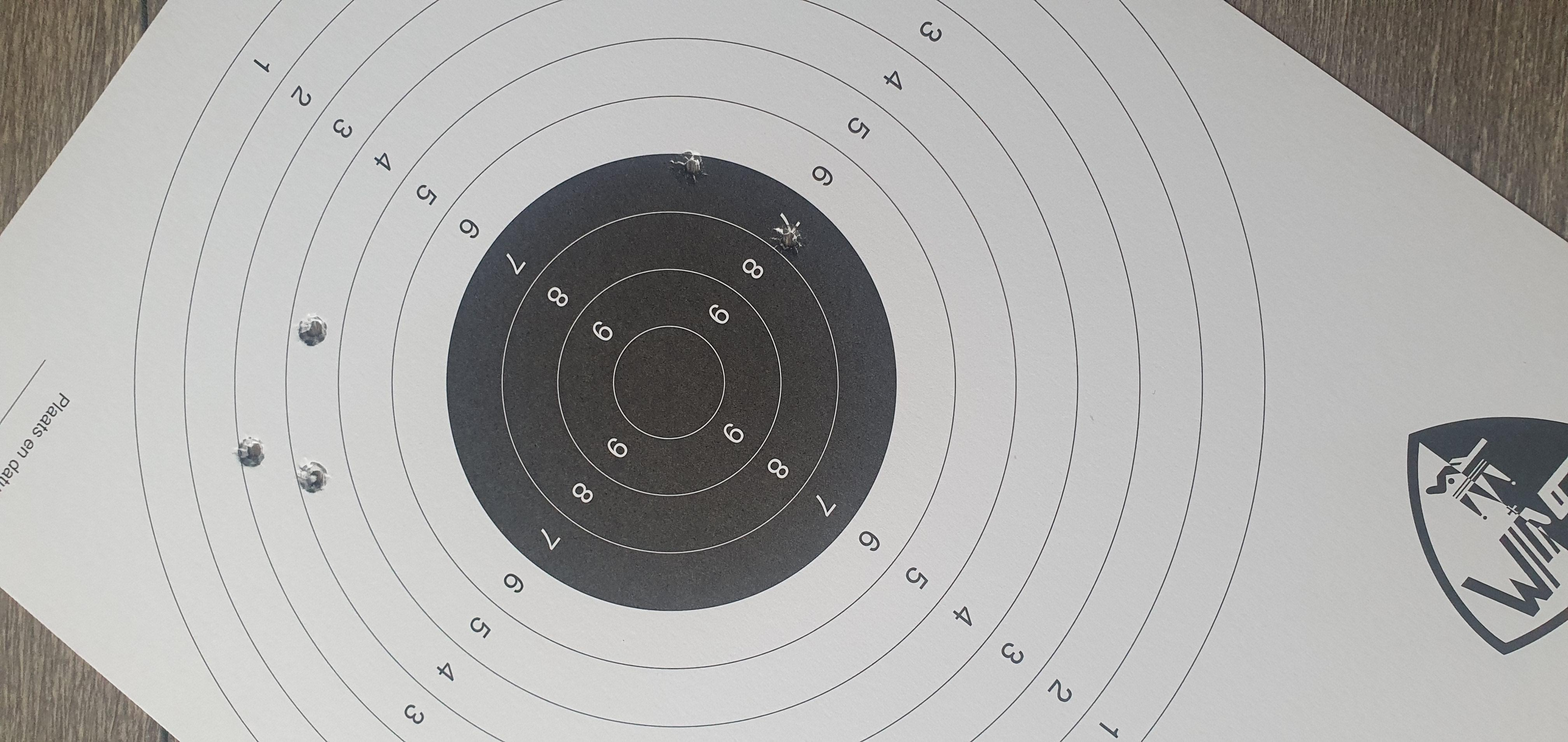hole: (1175, 317, 1250, 336), (520, 140, 600, 157), (1026, 364, 1098, 382), (835, 140, 902, 155), (578, 111, 644, 126)
